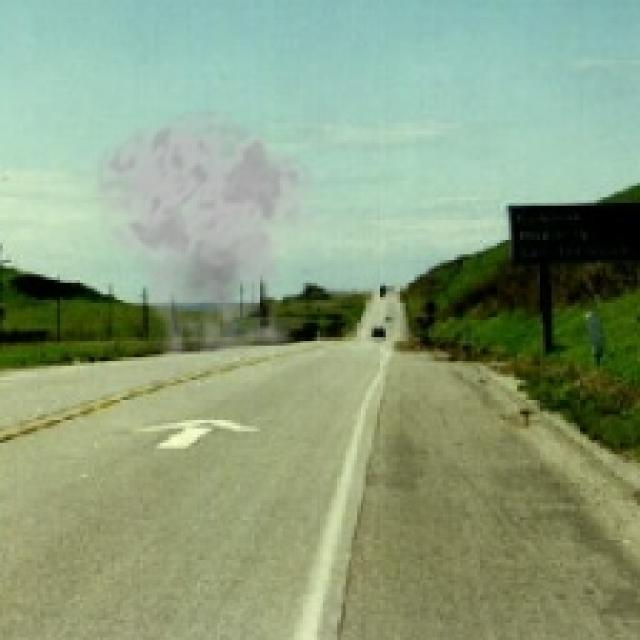smoke: (83, 106, 334, 377)
